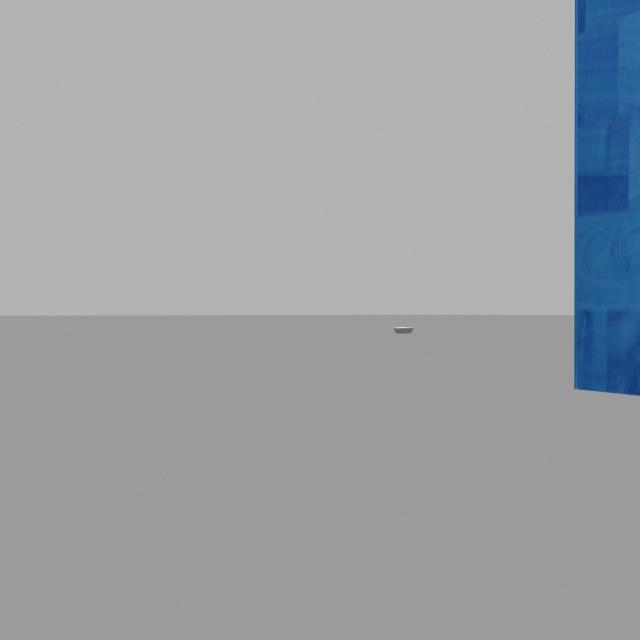bowl: (392, 319, 422, 337)
shelf: (562, 0, 640, 413)
